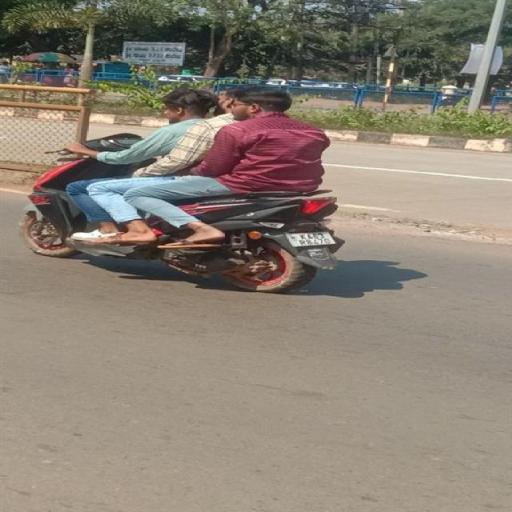tripple riding: (62, 81, 338, 196)
